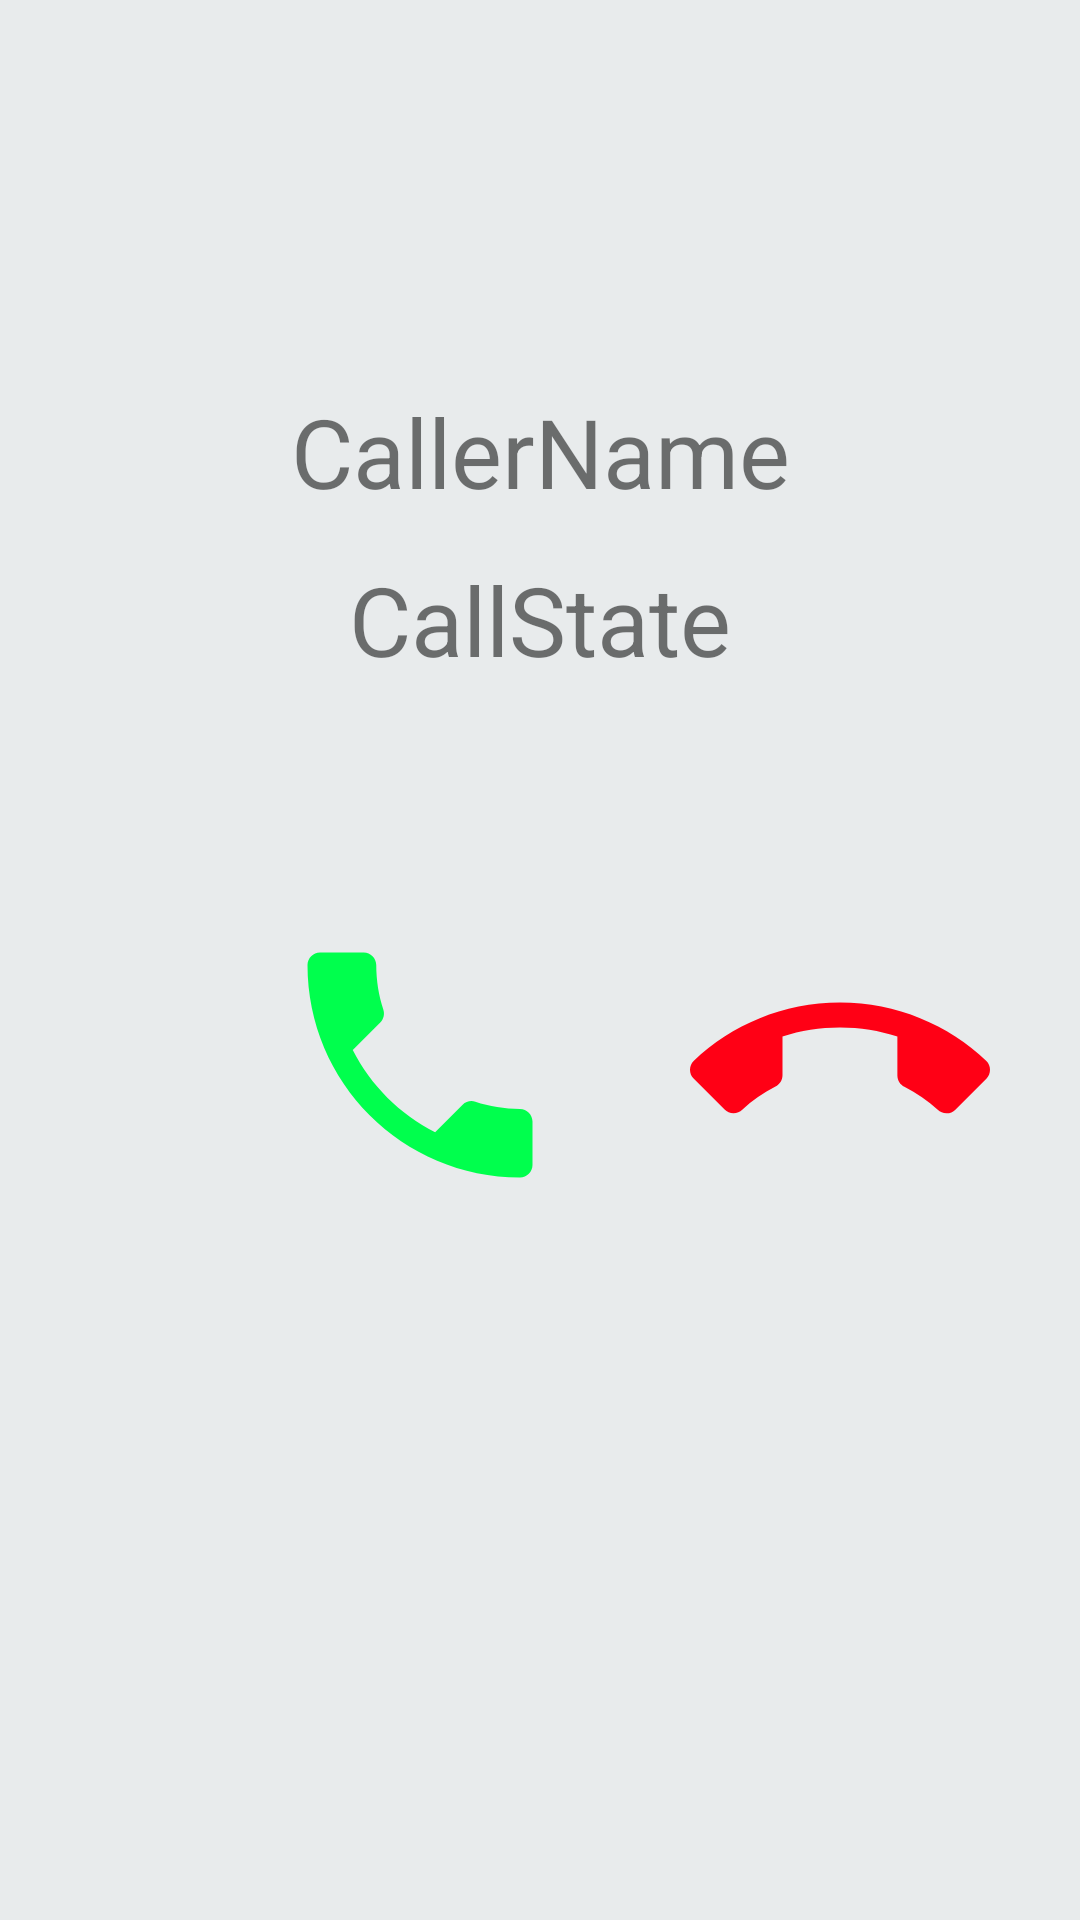

Screen size 1080 x 1920. Icon name, then its box in pixels as (x1, y1, x2, y2):
accept: (307, 952, 533, 1178)
endcall: (690, 1002, 990, 1114)
